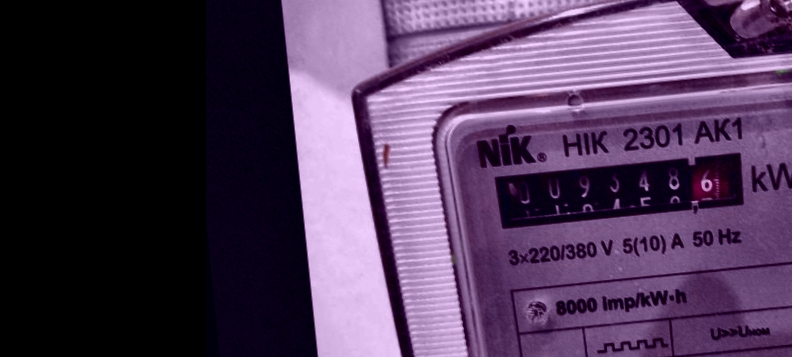0: (513, 180, 532, 208), (544, 174, 560, 202)
3: (605, 169, 621, 195)
4: (631, 164, 652, 196)
6: (695, 166, 715, 196)
8: (663, 164, 681, 193)
9: (575, 174, 592, 202)
screen: (474, 137, 759, 243)
